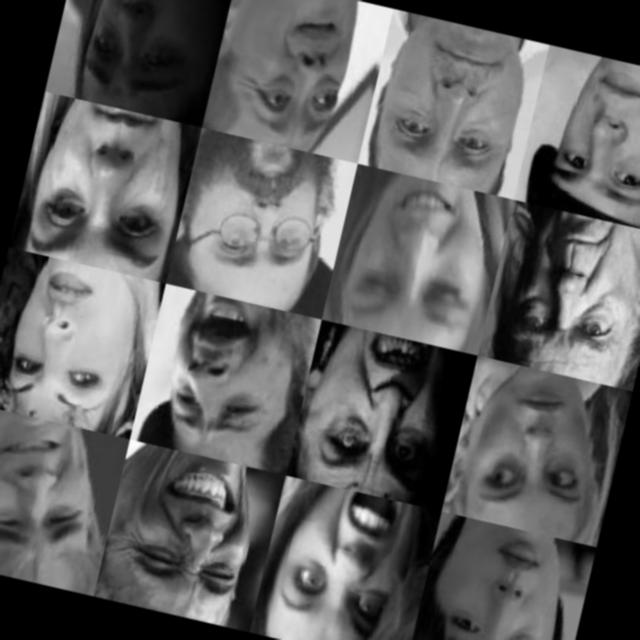angry: (454, 362, 624, 538), (294, 322, 462, 497), (264, 480, 430, 640), (491, 206, 640, 381)
fear: (210, 0, 380, 155)
happy: (104, 437, 278, 612), (516, 48, 640, 234)
neutral: (358, 9, 544, 200), (168, 132, 348, 307), (0, 249, 144, 419)
sad: (322, 171, 506, 350), (142, 284, 311, 467), (22, 102, 187, 268), (417, 515, 579, 640), (64, 0, 231, 118), (0, 409, 110, 581)
